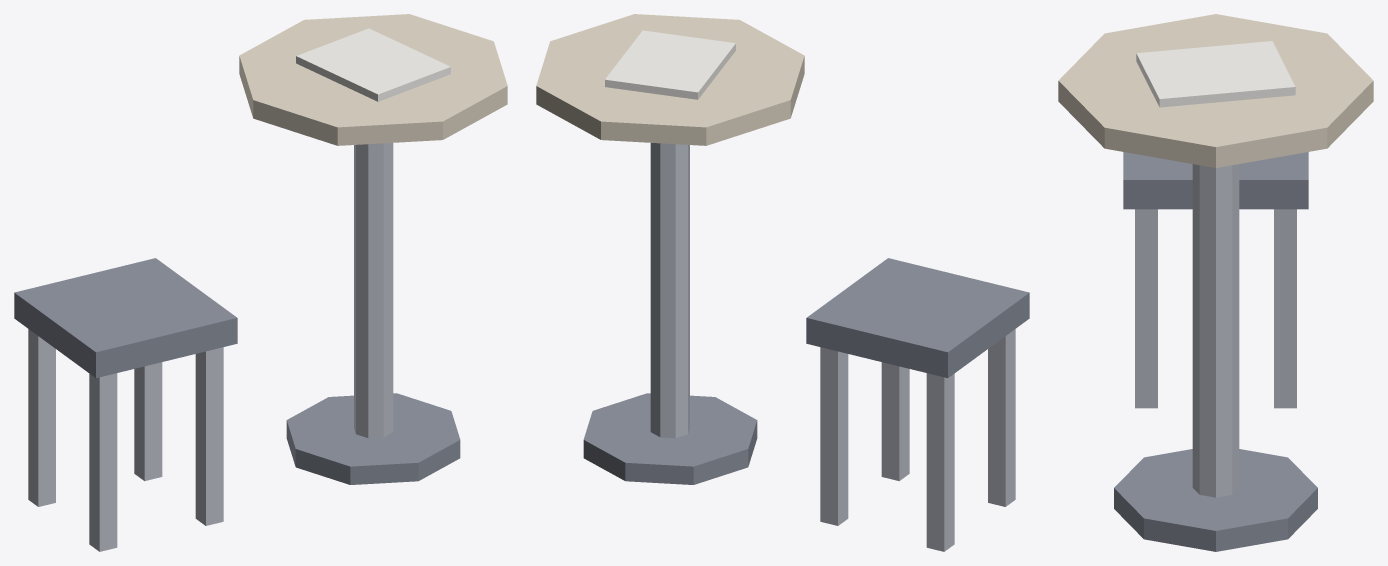
Rendered from station_transport_2.glb.
3 renders of one model, left to right at view 1: azimuth 30°, elevation 25°; view 2: azimuth 150°, elevation 25°; view 3: azimuth 270°, elevation 25°, orthographic. The views are drawn at different scales.
Visible parts, largest first — view 1: stehtisch_platte, hocker_sitz, stehtisch_saeule, stehtisch_fuss, zettel, hocker_bein, hocker_bein.002, hocker_bein.001, hocker_bein.003; view 2: stehtisch_platte, hocker_sitz, stehtisch_saeule, stehtisch_fuss, zettel, hocker_bein.001, hocker_bein.003, hocker_bein, hocker_bein.002; view 3: stehtisch_platte, stehtisch_saeule, stehtisch_fuss, zettel, hocker_sitz, hocker_bein.002, hocker_bein.003.
Boxes of the visible parts, box(x1,y1,x2,y2) form: stehtisch_platte: box(239, 14, 507, 145); hocker_sitz: box(14, 258, 237, 377); stehtisch_saeule: box(354, 143, 393, 438); stehtisch_fuss: box(286, 393, 460, 484); zettel: box(296, 28, 450, 101); hocker_bein: box(89, 373, 117, 551); hocker_bein.002: box(195, 347, 223, 525); hocker_bein.001: box(28, 329, 55, 506); hocker_bein.003: box(134, 362, 162, 481); stehtisch_platte: box(536, 14, 804, 145); hocker_sitz: box(806, 258, 1029, 377); stehtisch_saeule: box(650, 143, 689, 438); stehtisch_fuss: box(583, 393, 757, 484); zettel: box(605, 30, 735, 99); hocker_bein.001: box(926, 373, 954, 551); hocker_bein.003: box(820, 347, 848, 525); hocker_bein: box(988, 329, 1015, 506); hocker_bein.002: box(881, 362, 909, 481); stehtisch_platte: box(1058, 14, 1373, 167); stehtisch_saeule: box(1192, 164, 1239, 497); stehtisch_fuss: box(1114, 449, 1317, 551); zettel: box(1136, 41, 1295, 107); hocker_sitz: box(1123, 152, 1308, 209); hocker_bein.002: box(1135, 209, 1157, 408); hocker_bein.003: box(1274, 209, 1296, 408).
Bounding box in the file's own units: 1.24 × 1.05 × 0.68.
